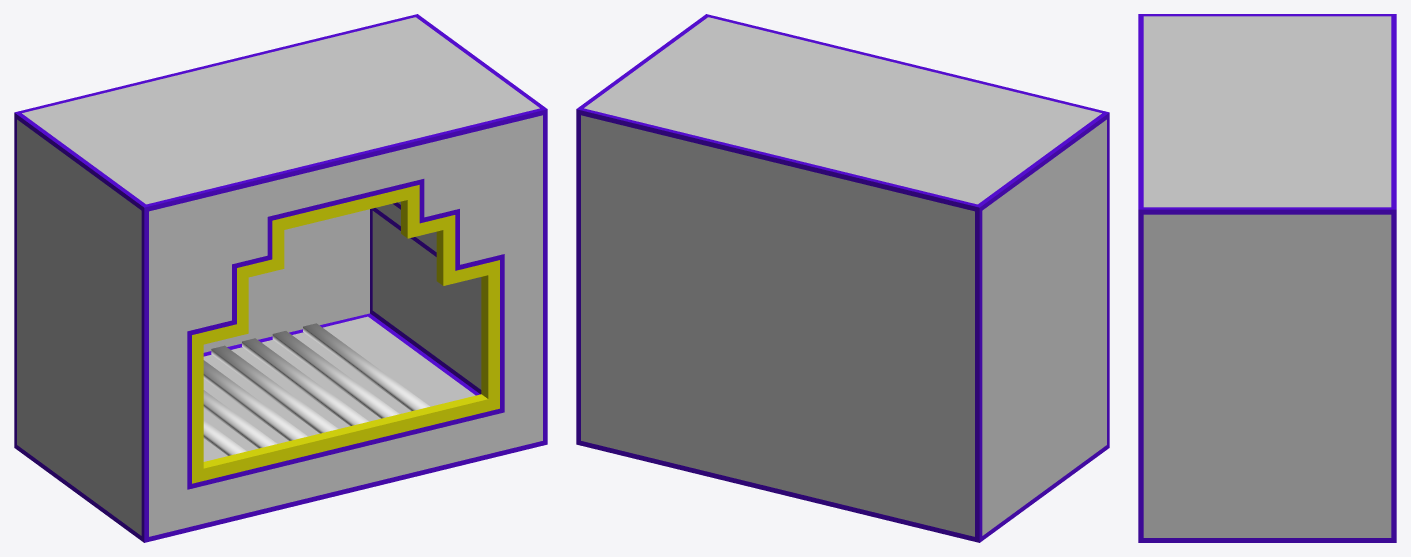
The model's file is sink.fbx.
3 views of the same model, side by side, from view 1: azimuth 30°, elevation 25°; view 2: azimuth 150°, elevation 25°; view 3: azimuth 270°, elevation 25° (orthographic).
Parts seen in each view (by area): view 1: Port, Highlight, Teeth; view 2: Port; view 3: Port.
Boxes of the visible parts, <box> form: Port: <box>14,14,547,542</box>; Highlight: <box>192,185,499,483</box>; Teeth: <box>203,323,429,455</box>; Port: <box>576,14,1109,542</box>; Port: <box>1138,14,1396,542</box>.
Bounding box in the file's own units: 1.72 × 1.36 × 0.9581.
